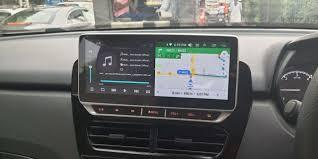non-ambulance: (0, 6, 90, 32)
